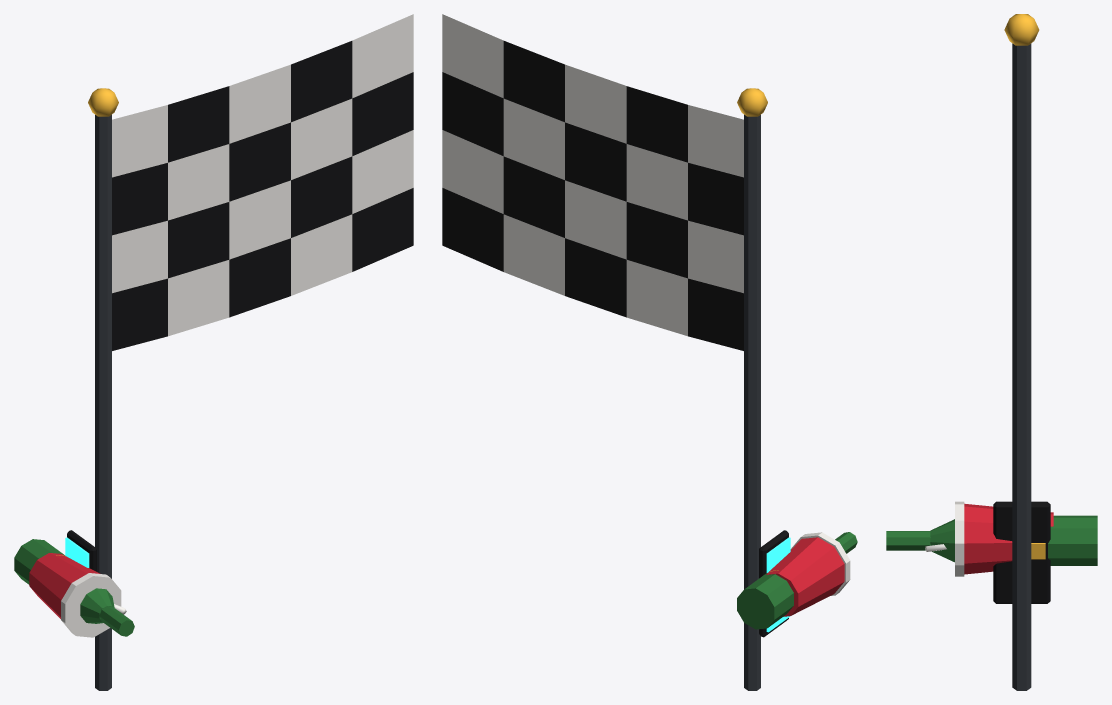
Rendered from npc_props.glb.
3 renders of one model, left to right at view 1: azimuth 30°, elevation 25°; view 2: azimuth 150°, elevation 25°; view 3: azimuth 270°, elevation 25°, orthographic. The views are drawn at different scales.
Parts seen in each view (by area): view 1: Flag, Cup, Bottle, Phone; view 2: Flag, Cup, Bottle, Phone; view 3: Flag, Bottle, Cup, Phone.
Boxes of the visible parts, x1=… form: Flag: x1=88, y1=14, x2=413, y2=690; Cup: x1=29, y1=553, x2=126, y2=637; Bottle: x1=14, y1=539, x2=134, y2=636; Phone: x1=65, y1=530, x2=96, y2=571; Flag: x1=442, y1=14, x2=767, y2=690; Cup: x1=766, y1=532, x2=850, y2=616; Bottle: x1=737, y1=532, x2=857, y2=629; Phone: x1=759, y1=530, x2=790, y2=637; Flag: x1=1004, y1=14, x2=1039, y2=690; Bottle: x1=886, y1=515, x2=1097, y2=565; Cup: x1=925, y1=501, x2=1053, y2=576; Phone: x1=993, y1=501, x2=1050, y2=603.
Bounding box in the file's own units: 0.6157 × 0.932 × 0.265.
